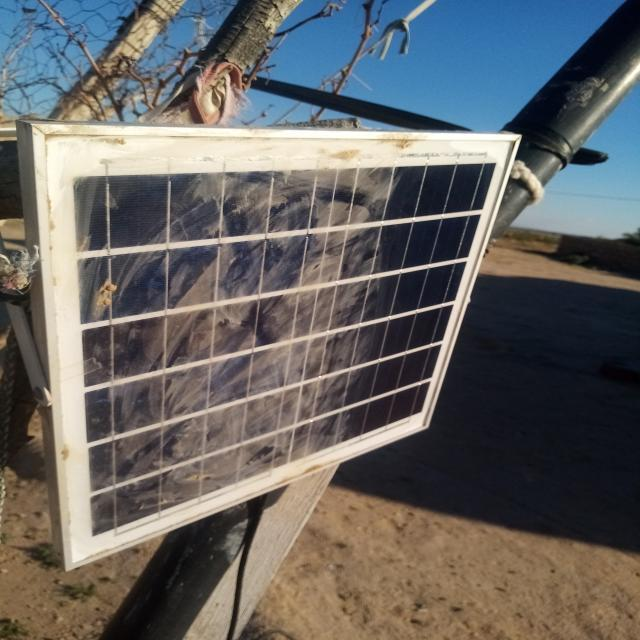faulty: (35, 132, 515, 569)
